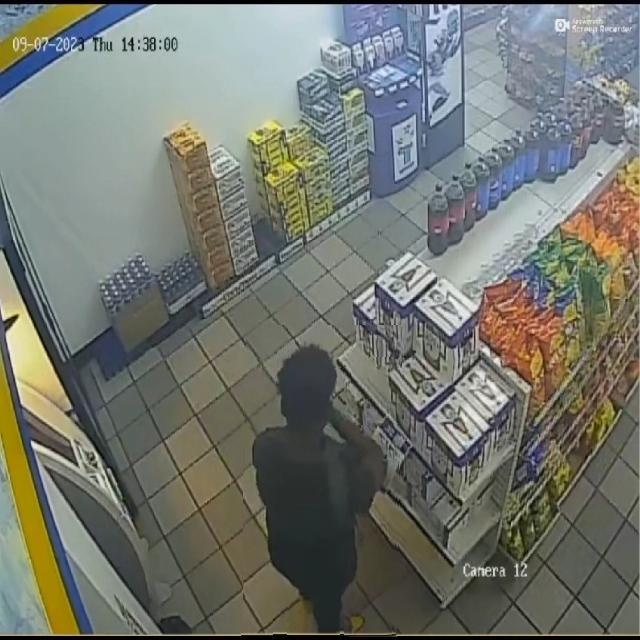normal: (243, 325, 401, 640)
